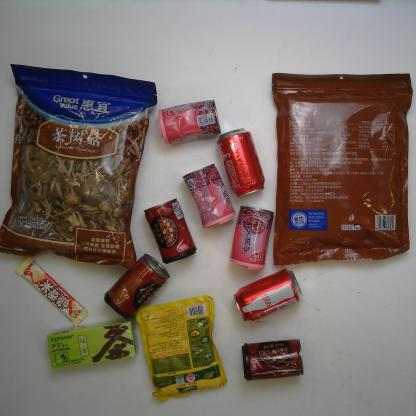Canned Food: (105, 251, 169, 321), (142, 199, 198, 263), (182, 162, 234, 230), (157, 96, 223, 147), (229, 203, 274, 272), (238, 336, 308, 380)
Chocolate: (14, 257, 87, 326)
Dried Food: (0, 61, 158, 270), (271, 71, 413, 267)
Drink: (233, 266, 307, 322), (218, 125, 264, 196)
Instant Drink: (45, 316, 139, 370)
Seasoner: (136, 292, 228, 402)
